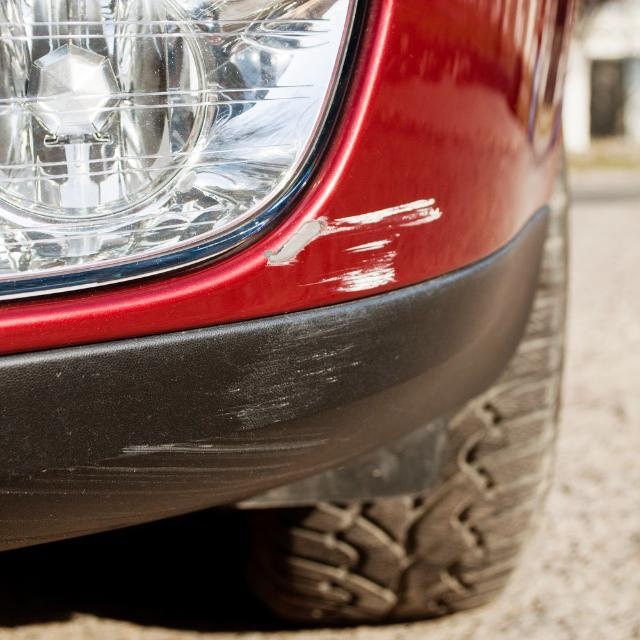scratch: (0, 303, 372, 536), (259, 196, 449, 297)
